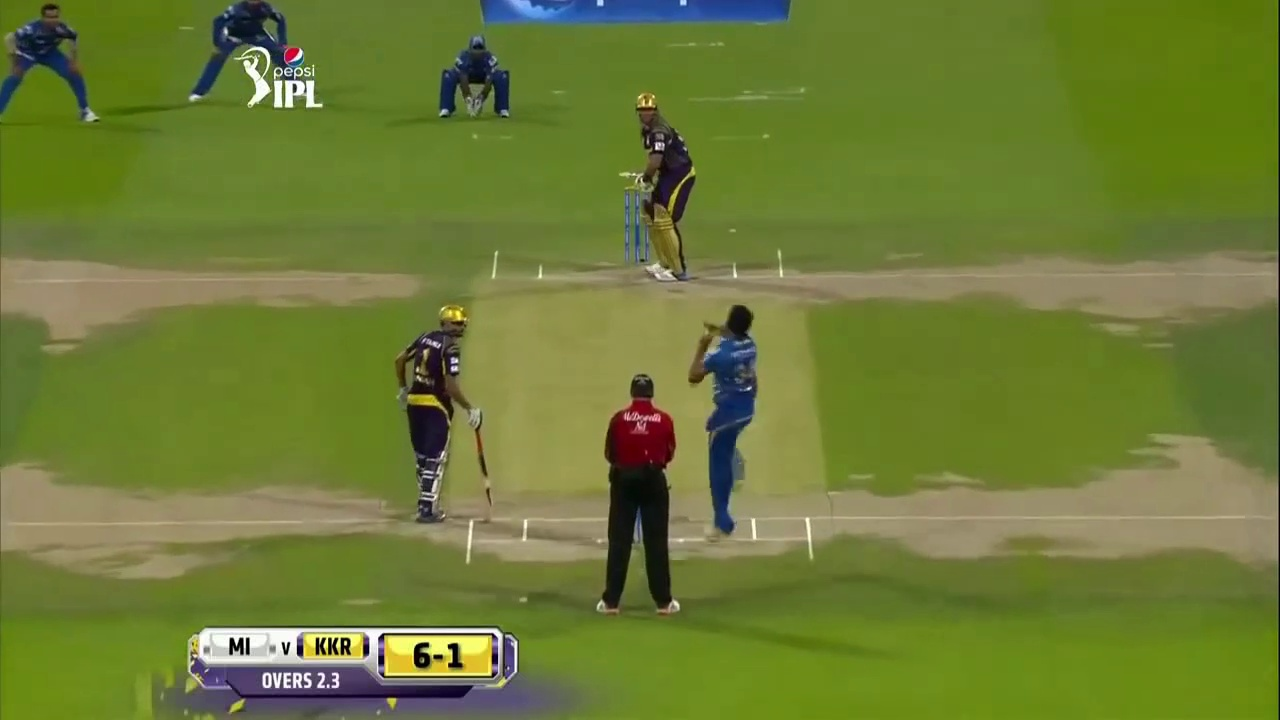bat: (472, 432, 495, 522)
